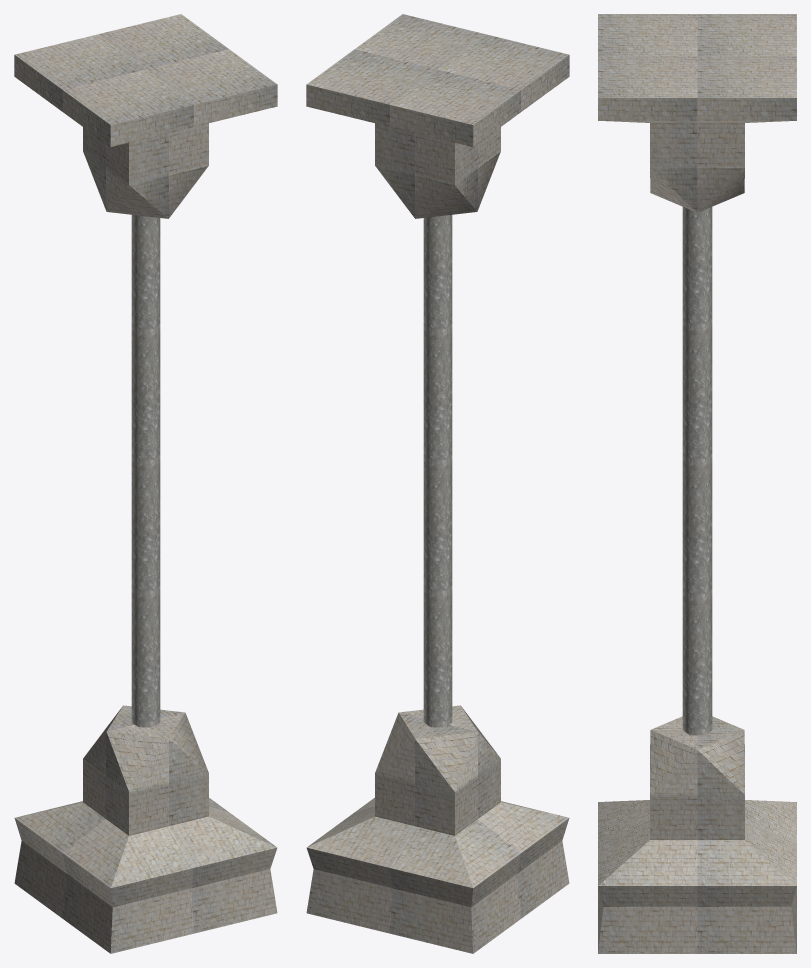
3 views of the same model, side by side, from view 1: azimuth 30°, elevation 25°; view 2: azimuth 150°, elevation 25°; view 3: azimuth 270°, elevation 25° (orthographic). The views are drawn at different scales.
Visible parts, largest first — view 1: TexturesCom_BrickMessy0175_2_M, TexturesCom_MetalScratches0021_M; view 2: TexturesCom_BrickMessy0175_2_M, TexturesCom_MetalScratches0021_M; view 3: TexturesCom_BrickMessy0175_2_M, TexturesCom_MetalScratches0021_M.
Boxes of the visible parts, <box> form: TexturesCom_BrickMessy0175_2_M: <box>14,14,277,953</box>; TexturesCom_MetalScratches0021_M: <box>131,215,160,727</box>; TexturesCom_BrickMessy0175_2_M: <box>306,14,569,953</box>; TexturesCom_MetalScratches0021_M: <box>423,215,452,727</box>; TexturesCom_BrickMessy0175_2_M: <box>598,14,796,953</box>; TexturesCom_MetalScratches0021_M: <box>682,207,712,735</box>.
Size of the model in its own units: 2 by 9.5 by 2.
Materials: 2 (2 with a texture image).
